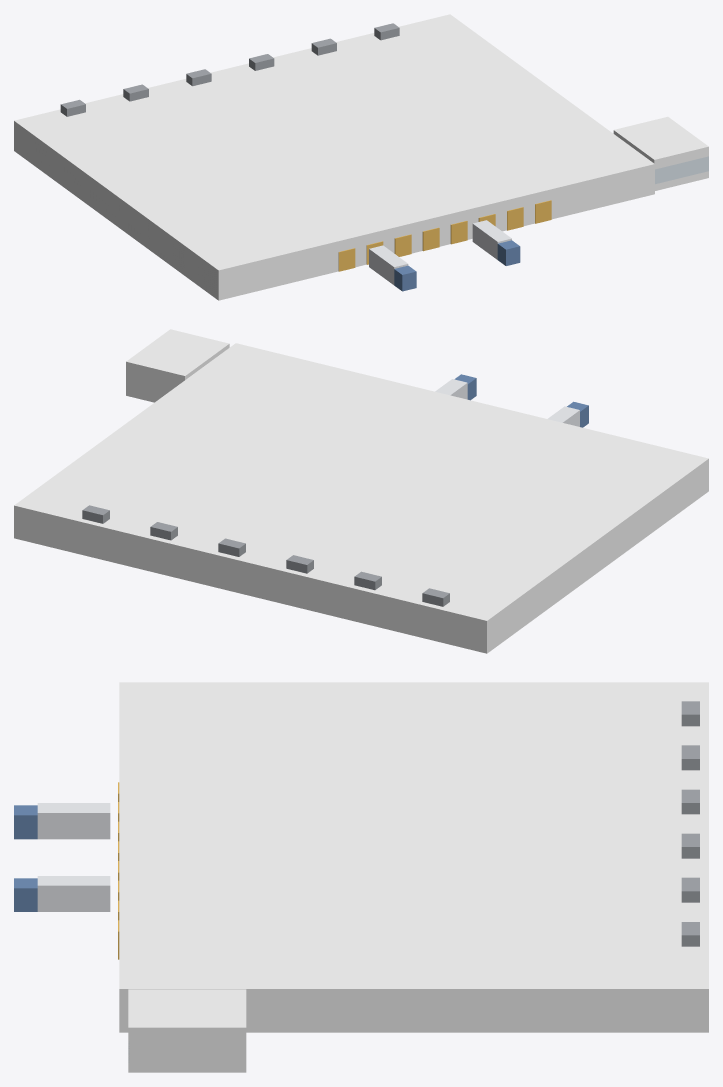
The model's file is site_built_Z3.opt.glb.
The picture shows the model from 3 angles, top to bottom: view 1: azimuth 30°, elevation 25°; view 2: azimuth 150°, elevation 25°; view 3: azimuth 270°, elevation 25°; orthographic projection. The views are drawn at different scales.
Parts seen in each view (by area): view 1: Z3_roof, Z3_ws, Z3_ww, Z3_office, Z3_reef0t, Z3_reef1t, Z3_officeg, Z3_floor, Z3_reef1c, Z3_reef0c; view 2: Z3_roof, Z3_wn, Z3_ww, Z3_office; view 3: Z3_roof, Z3_we, Z3_office, Z3_reef0t, Z3_reef1t, Z3_reef0c, Z3_reef1c.
Part boxes in pixels (x1,y1,x2,y2): Z3_roof: (14,14,654,271); Z3_ws: (217,166,654,300); Z3_ww: (15,123,220,299); Z3_office: (613,116,708,190); Z3_reef0t: (369,245,408,285); Z3_reef1t: (472,220,511,259); Z3_officeg: (655,156,708,183); Z3_floor: (14,150,654,300); Z3_reef1c: (497,240,520,265); Z3_reef0c: (394,265,416,291); Z3_roof: (14,343,708,622); Z3_wn: (14,507,487,653); Z3_ww: (485,461,707,652); Z3_office: (126,329,229,402); Z3_roof: (119,682,708,991); Z3_we: (119,991,708,1032); Z3_office: (128,989,246,1072); Z3_reef0t: (37,803,110,839); Z3_reef1t: (37,876,110,911); Z3_reef0c: (14,805,37,839); Z3_reef1c: (14,878,37,911).
Bounding box in the file's own units: 90.5 × 6.7 × 76.6.
